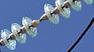gap: (21, 3, 61, 39)
